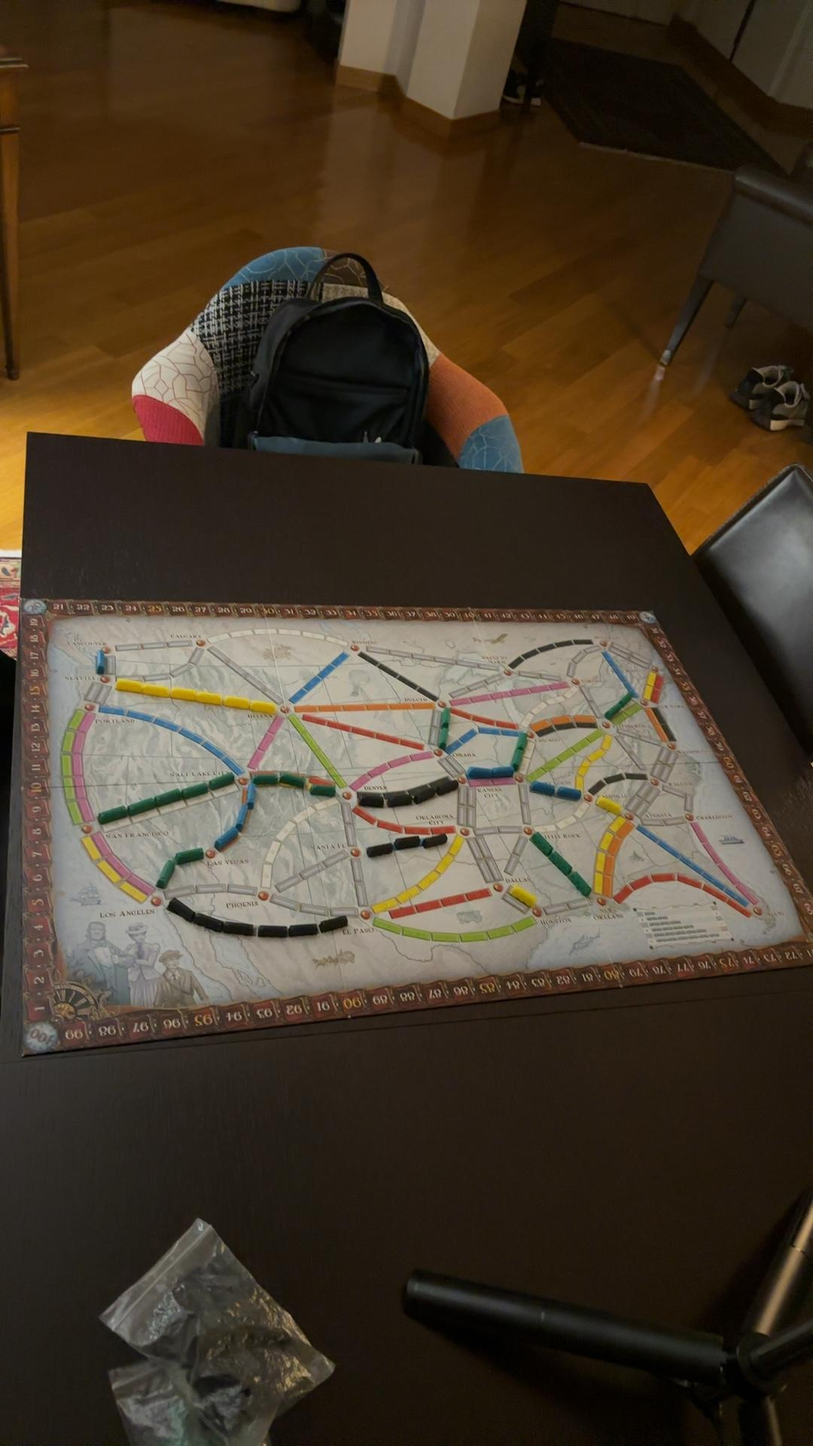black_train: (167, 898, 193, 921), (222, 920, 254, 935), (194, 914, 222, 931), (419, 833, 448, 848), (358, 791, 384, 807), (257, 925, 288, 938), (289, 923, 317, 937), (393, 836, 421, 850), (367, 843, 393, 857), (436, 779, 458, 795), (388, 794, 413, 806), (413, 791, 433, 802)
blue_train: (215, 827, 238, 850), (319, 916, 348, 932), (235, 804, 246, 831), (96, 649, 106, 675), (246, 782, 255, 809)
green_train: (127, 797, 157, 816), (157, 857, 174, 889), (571, 872, 591, 897), (154, 789, 181, 807), (99, 806, 127, 823), (280, 771, 306, 789), (175, 848, 204, 864), (181, 783, 208, 799), (252, 771, 279, 786), (210, 773, 234, 789), (311, 784, 335, 795)
yellow_train: (509, 885, 535, 907), (594, 795, 623, 814), (116, 677, 143, 691), (250, 700, 276, 714), (196, 691, 222, 704), (169, 688, 196, 700), (223, 697, 249, 709), (143, 685, 169, 695)
